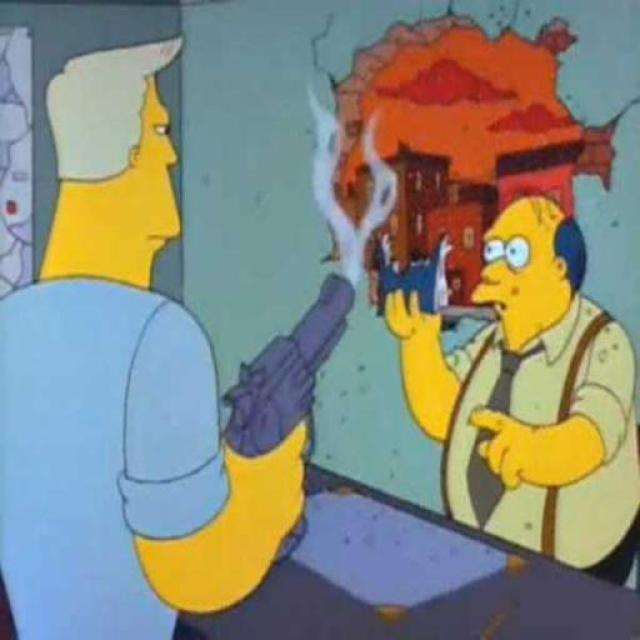pistol: (206, 275, 366, 570)
